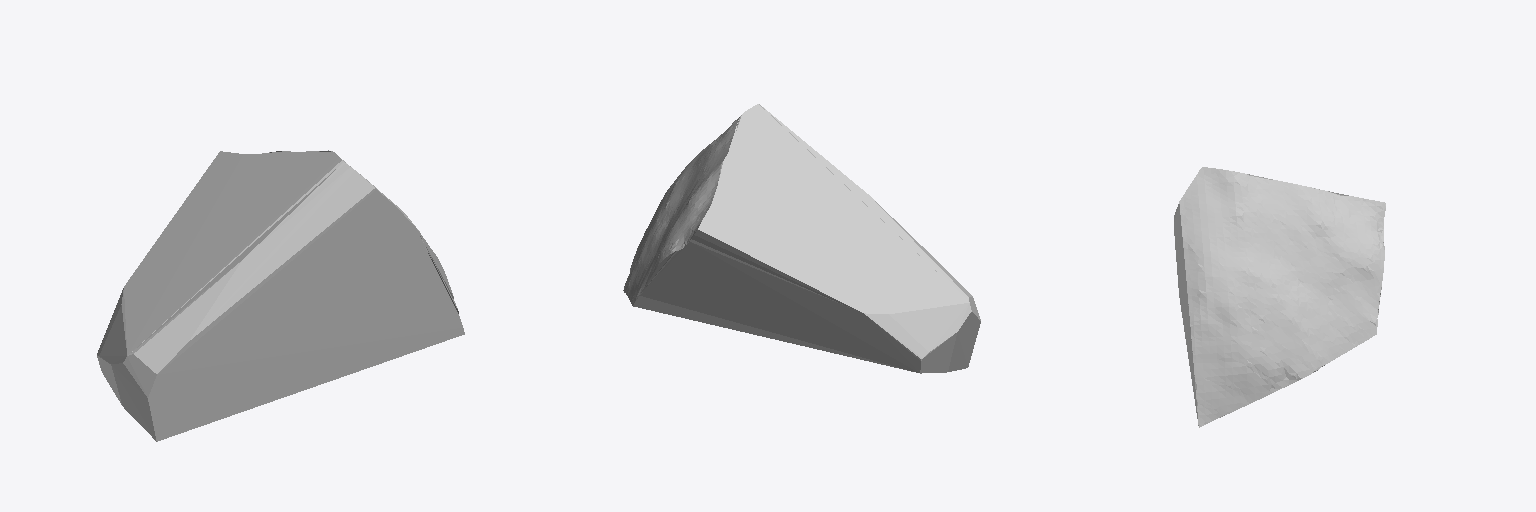
Rendered from low_cell_027.obj.
3 renders of one model, left to right at view 1: azimuth 30°, elevation 25°; view 2: azimuth 150°, elevation 25°; view 3: azimuth 270°, elevation 25°, orthographic.
Parts seen in each view (by area): view 1: low_cell.027_low_cell.026; view 2: low_cell.027_low_cell.026; view 3: low_cell.027_low_cell.026.
Part boxes in pixels (bbox=[...]): low_cell.027_low_cell.026: bbox=[97, 150, 464, 441]; low_cell.027_low_cell.026: bbox=[623, 104, 980, 373]; low_cell.027_low_cell.026: bbox=[1174, 167, 1385, 427].
Bounding box in the file's own units: 1.07 × 0.6843 × 0.5863.